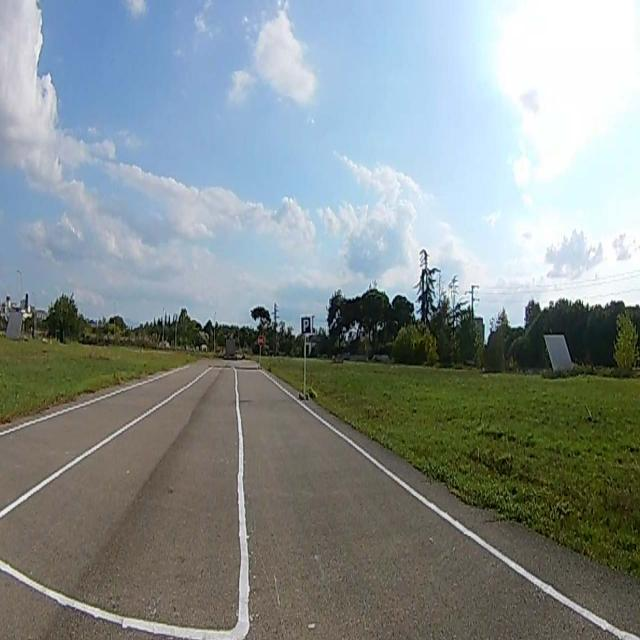park: (301, 318, 311, 332)
